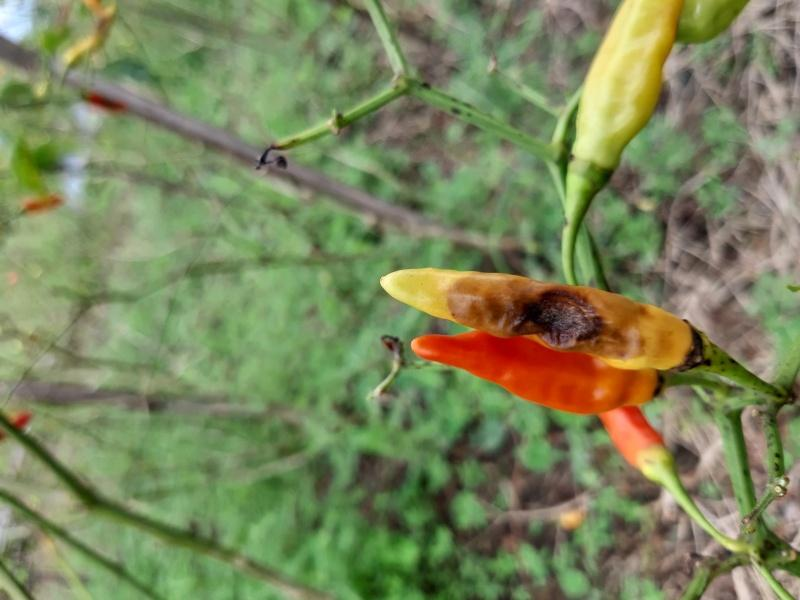antraknosa: (380, 265, 698, 370)
cabai_normal: (411, 330, 660, 411), (574, 0, 682, 173)
